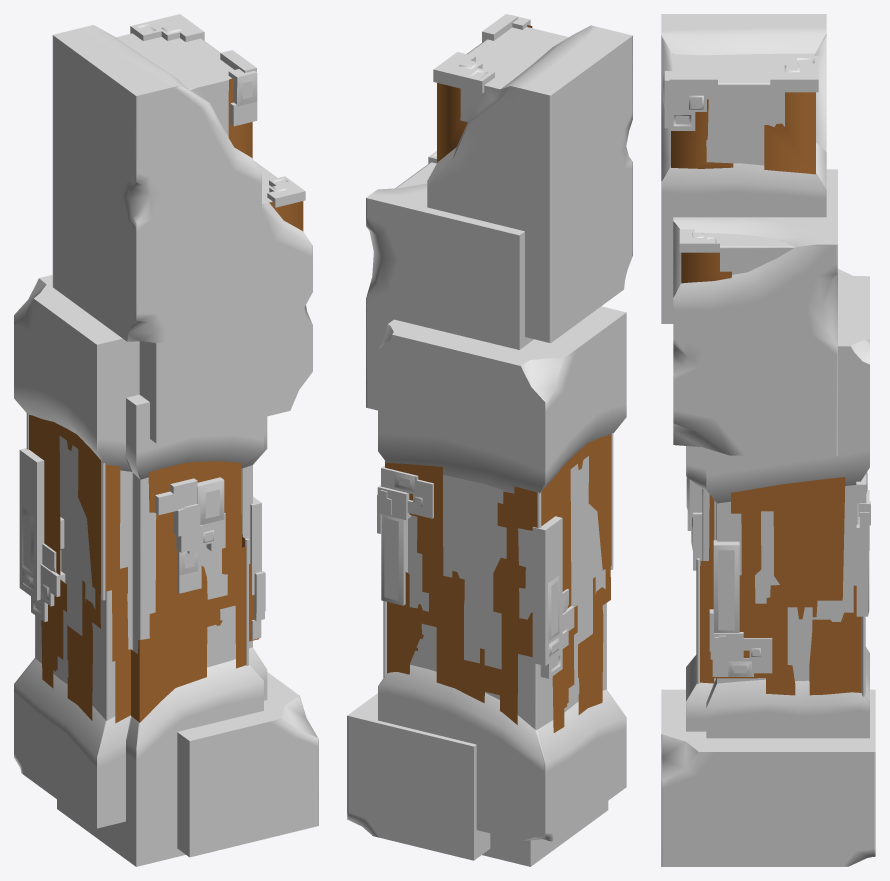
The model's file is VexArchitecture_20.fbx.
3 renders of one model, left to right at view 1: azimuth 30°, elevation 25°; view 2: azimuth 150°, elevation 25°; view 3: azimuth 270°, elevation 25°, orthographic.
Parts seen in each view (by area): view 1: Mesh_0536.rip, Mesh_0498.rip, Mesh_0543.rip, Mesh_0544.rip; view 2: Mesh_0536.rip, Mesh_0498.rip, Mesh_0543.rip, Mesh_0544.rip; view 3: Mesh_0536.rip, Mesh_0498.rip, Mesh_0543.rip, Mesh_0544.rip.
Part boxes in pixels (bbox=[...]): Mesh_0536.rip: bbox=[14, 25, 318, 866]; Mesh_0498.rip: bbox=[29, 78, 303, 723]; Mesh_0543.rip: bbox=[26, 33, 276, 720]; Mesh_0544.rip: bbox=[19, 14, 305, 639]; Mesh_0536.rip: bbox=[347, 25, 632, 866]; Mesh_0498.rip: bbox=[385, 25, 611, 732]; Mesh_0543.rip: bbox=[383, 27, 613, 730]; Mesh_0544.rip: bbox=[377, 14, 574, 678]; Mesh_0536.rip: bbox=[661, 14, 875, 866]; Mesh_0498.rip: bbox=[671, 92, 861, 695]; Mesh_0543.rip: bbox=[672, 36, 865, 696]; Mesh_0544.rip: bbox=[663, 56, 870, 676].
Bounding box in the file's own units: 52.97 × 199 × 50.02.
